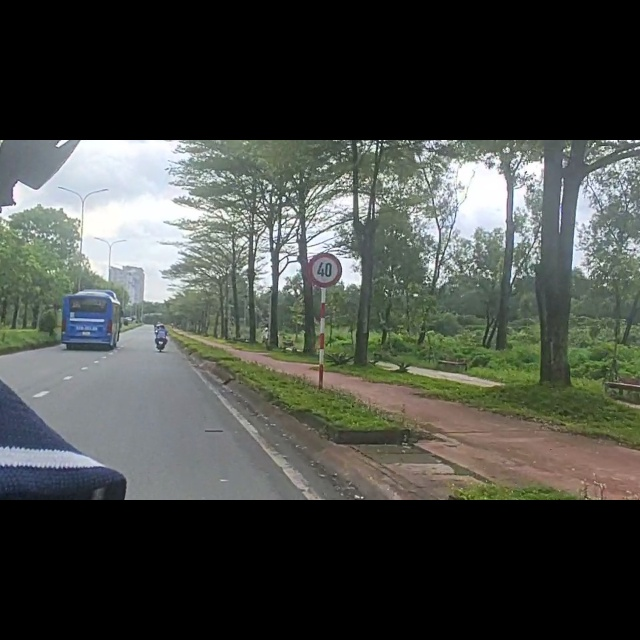Tốc độ tối đa cho phép 40km/h: (306, 253, 342, 286)
